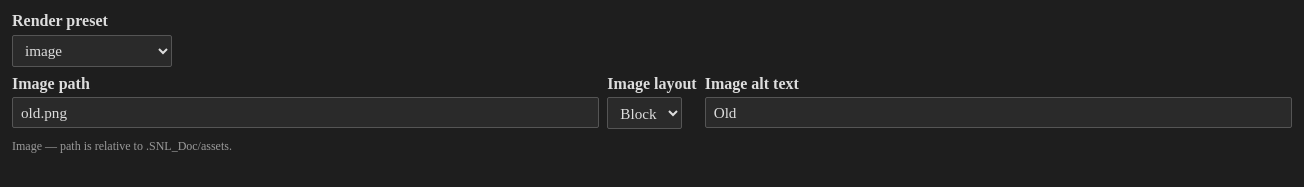
Create Macro localization › clears the persisted image preset while an edited path is invalid
Step 1. Replace the text in the field labelled "Image path" with "../outside.png" → (306, 113), box left=12, top=97, right=599, bottom=128
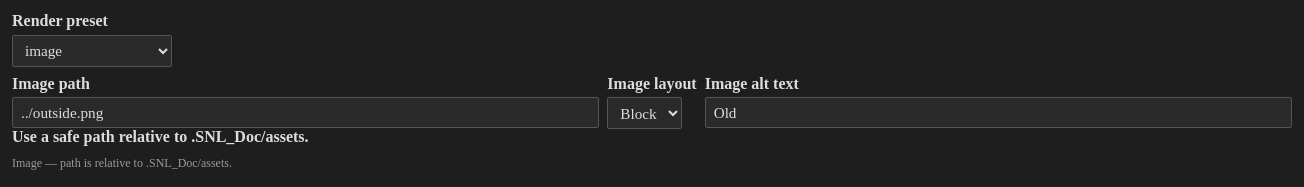
Now the message shows ".SNL_Doc/assets", box left=12, top=128, right=309, bottom=145
